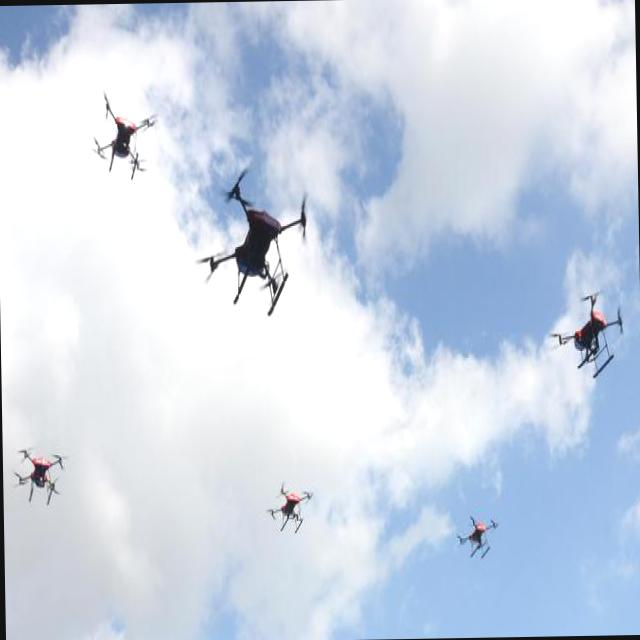drone: (192, 163, 312, 318), (546, 284, 626, 382), (85, 82, 158, 184), (12, 446, 71, 510), (264, 480, 315, 536), (456, 510, 501, 562)
